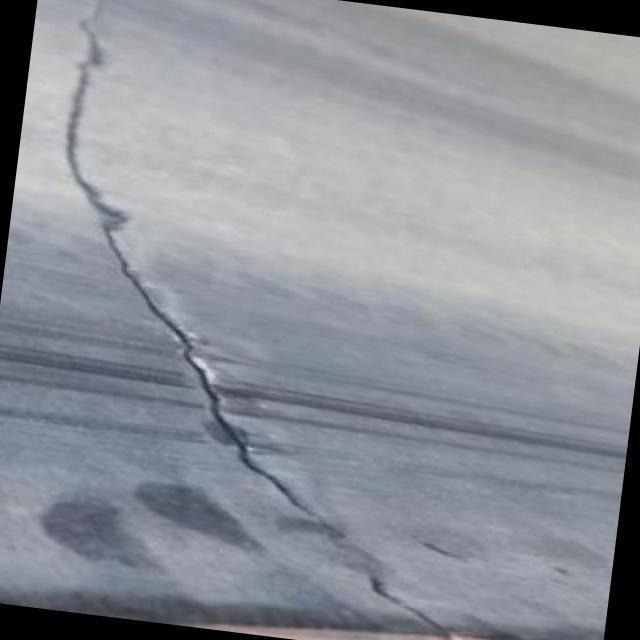Tear: (64, 0, 456, 640)
